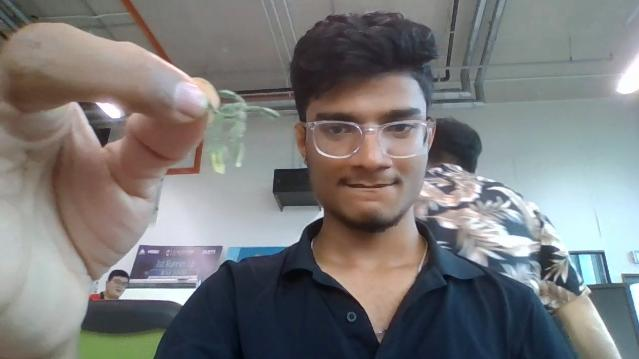Flower Bud: (217, 89, 247, 111), (239, 105, 280, 119)
